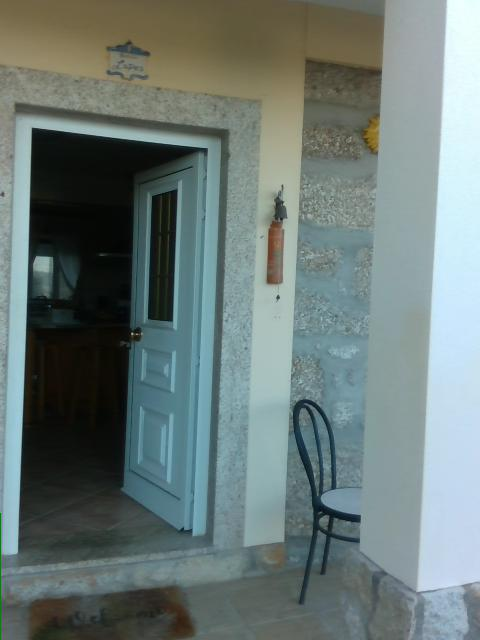door: (121, 149, 204, 531)
